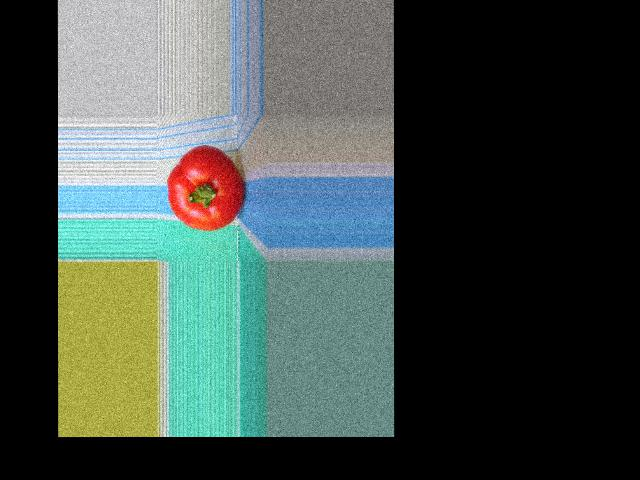tomato: (167, 146, 245, 231)
